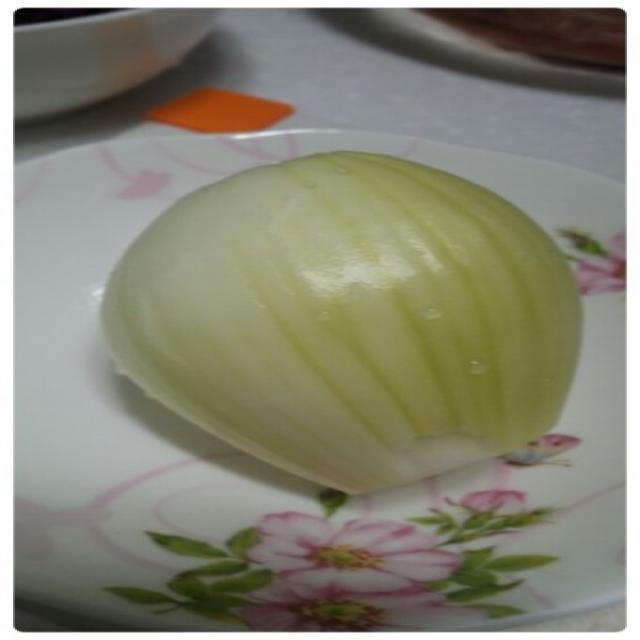Onion: (99, 146, 584, 499)
